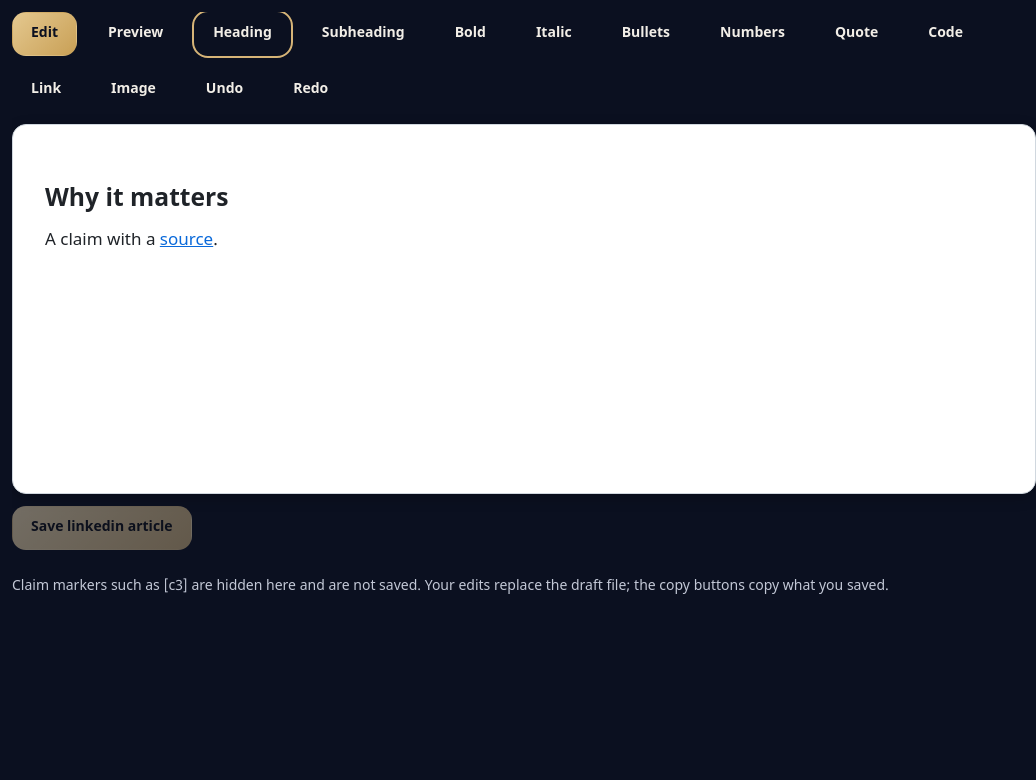
it: The post editor › previews the post as readers will see it, and a LinkedIn article has no front matter fields
expect the heading "Why it matters" is shown: met, box [45,184,228,216]
Click the button "Preview".
click(136, 34)  # box [89,12,182,56]
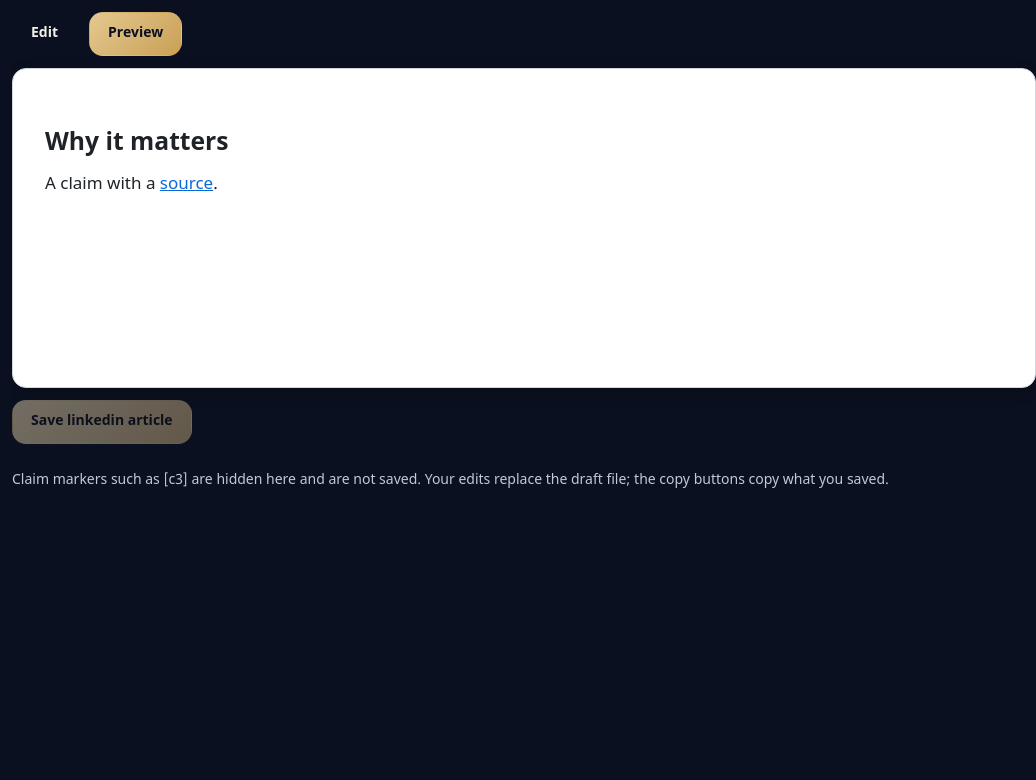
expect the element named "LinkedIn article, as it will look" does not show "[c1]": met, box [45,174,160,196]
expect the button "Bold" is gone: met
